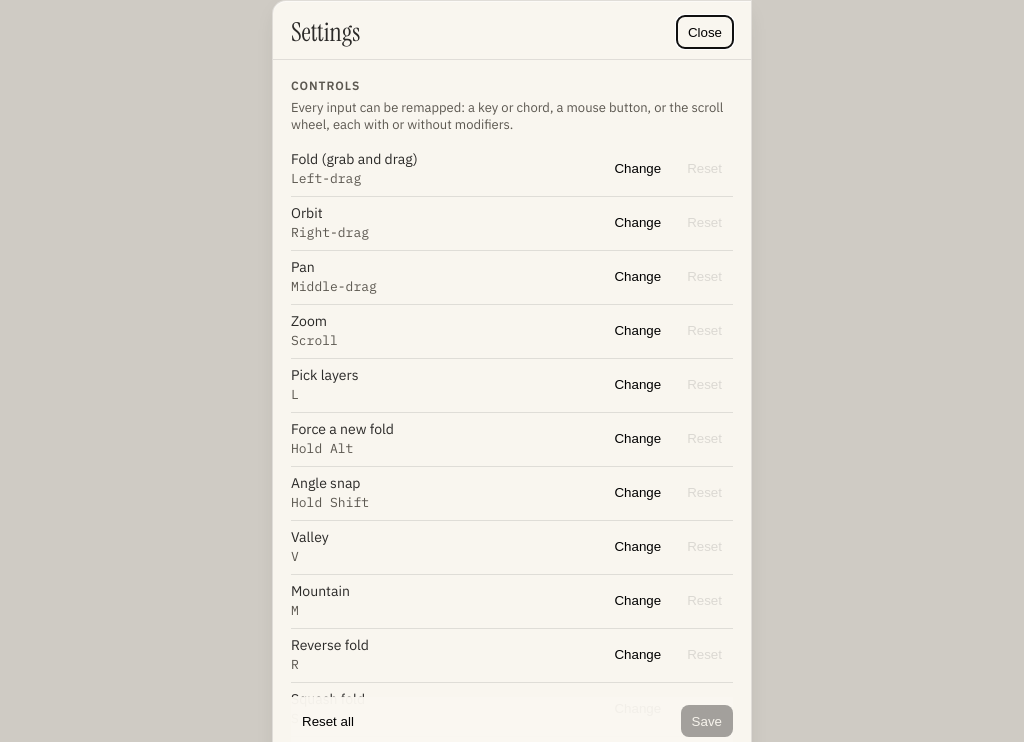
Test: settings sheet: controls › Esc during capture cancels the capture only; Backspace unbinds
The width and height of the screenshot is (1024, 742).
Click the button with aria-label "Change Valley": (638, 546) [604,530,672,562]
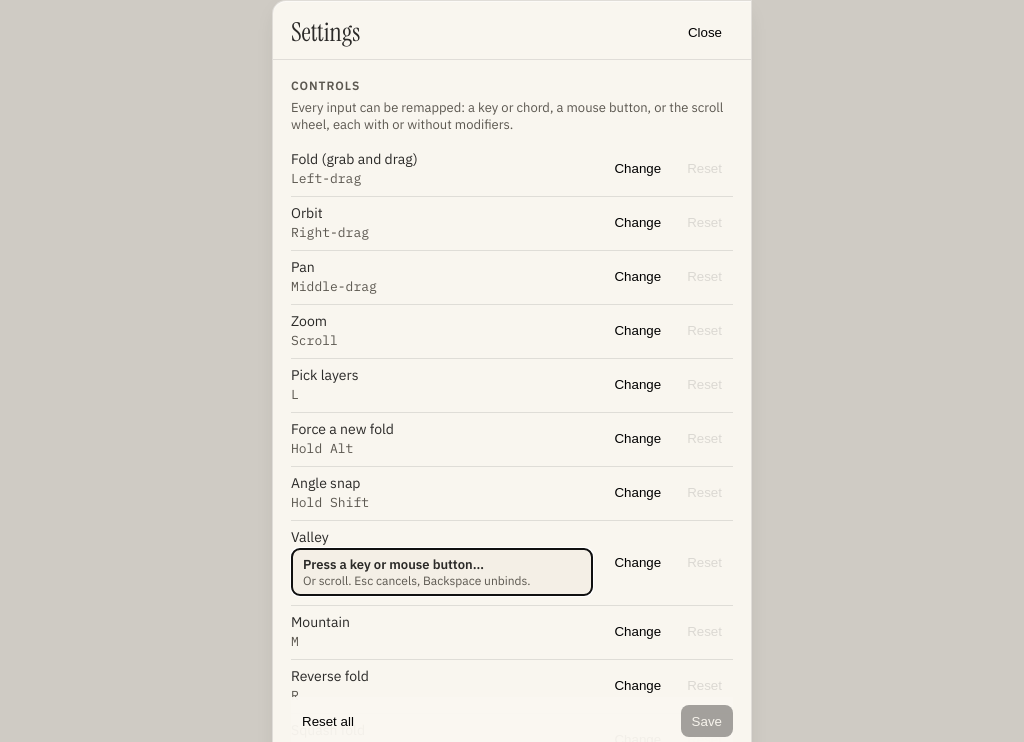
Press Escape in the element named "New binding for Valley", box [291,548,594,596]
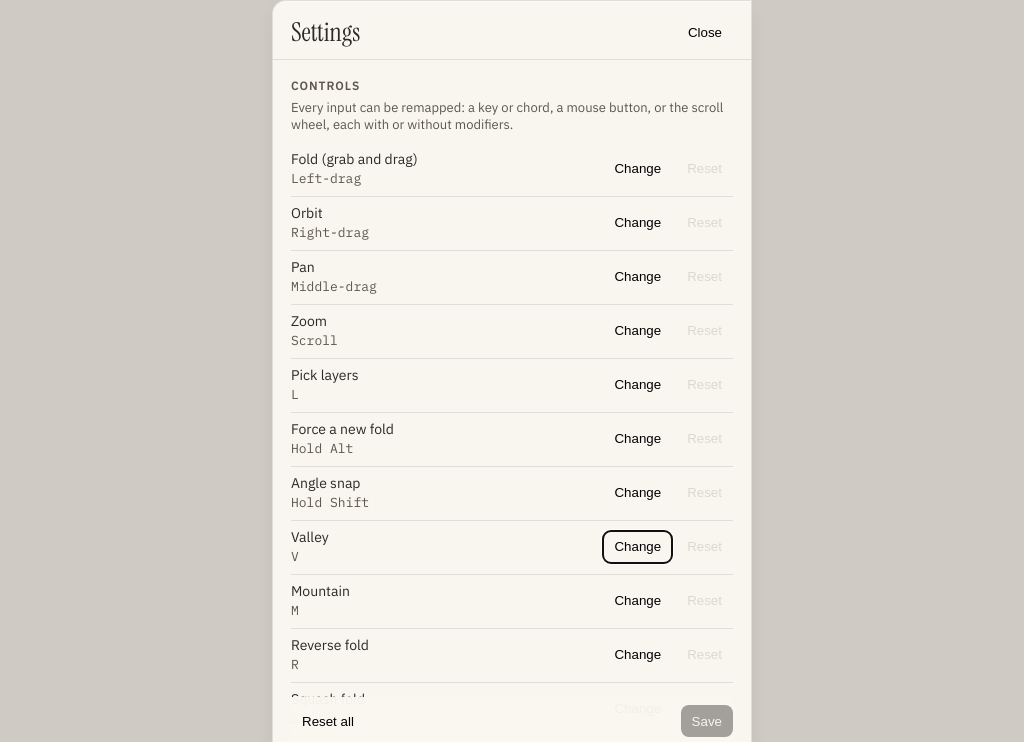
Expected: the text "Press a key or mouse button…" is gone
Expected: the text "V" is shown, [291,548,299,565]
Click the button with aria-label "Change Valley": (638, 546) [604,530,672,562]
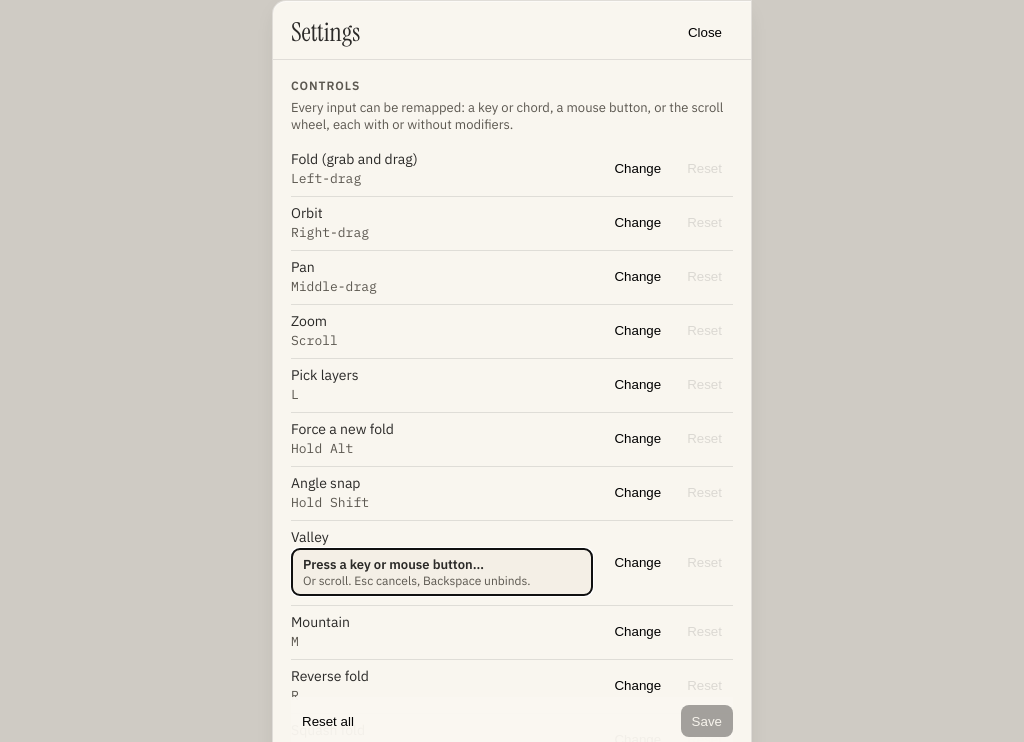
Press Backspace in the element named "New binding for Valley", box [291,548,594,596]
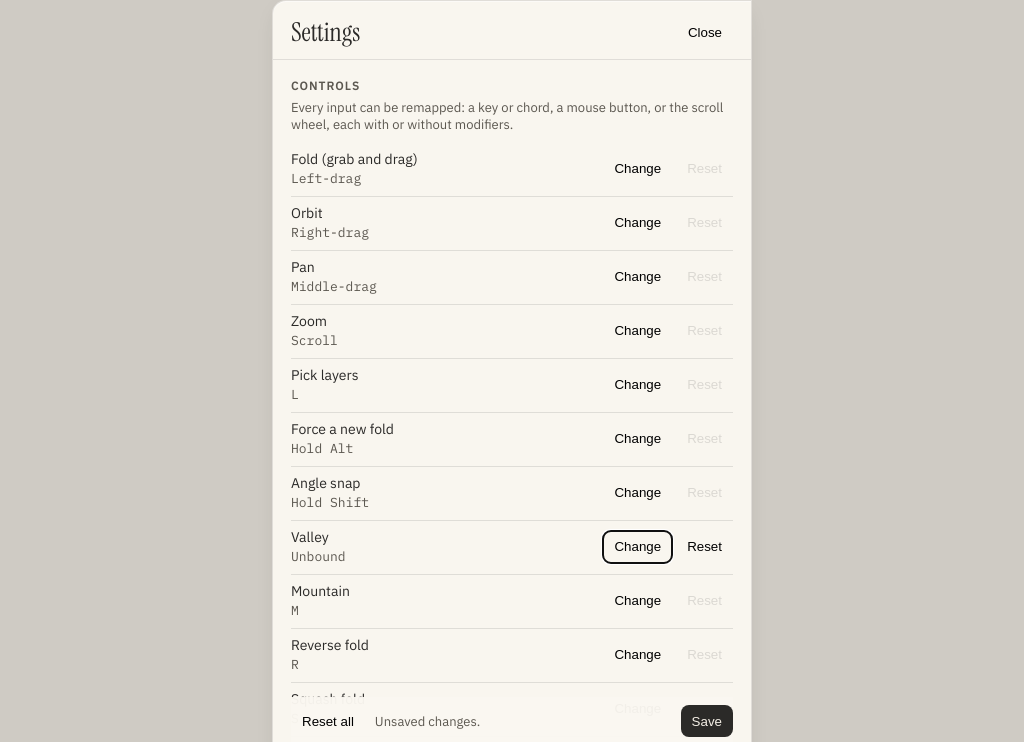
Expected: the text "Unbound" is shown, [291,548,346,565]
